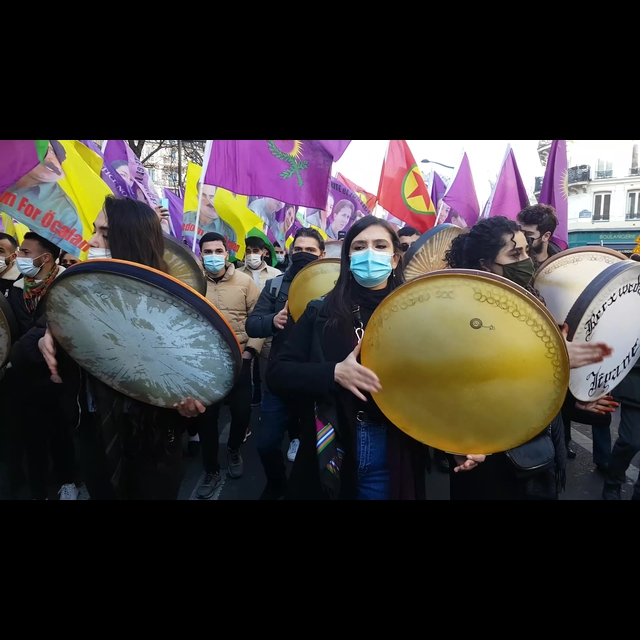PKK: (398, 158, 438, 216)
